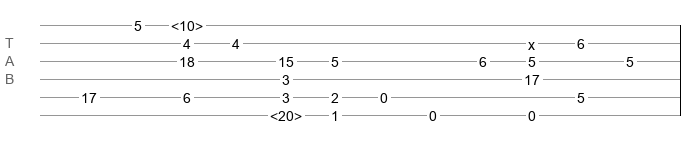0: (380, 90, 388, 100), (429, 108, 437, 118), (528, 108, 536, 118)
1: (331, 108, 339, 118)
15: (278, 54, 294, 64)
17: (81, 90, 97, 100), (524, 72, 540, 82)
18: (179, 54, 195, 64)
2: (331, 90, 339, 100)
3: (282, 72, 290, 82), (282, 90, 290, 100)
4: (183, 36, 191, 46), (232, 36, 240, 46)
5: (134, 18, 142, 28), (331, 54, 339, 64), (528, 54, 536, 64), (577, 90, 585, 100), (626, 54, 634, 64)
6: (183, 90, 191, 100), (479, 54, 487, 64), (577, 36, 585, 46)
harmonic: (171, 18, 203, 28), (270, 108, 302, 118)
x: (528, 37, 535, 45)
